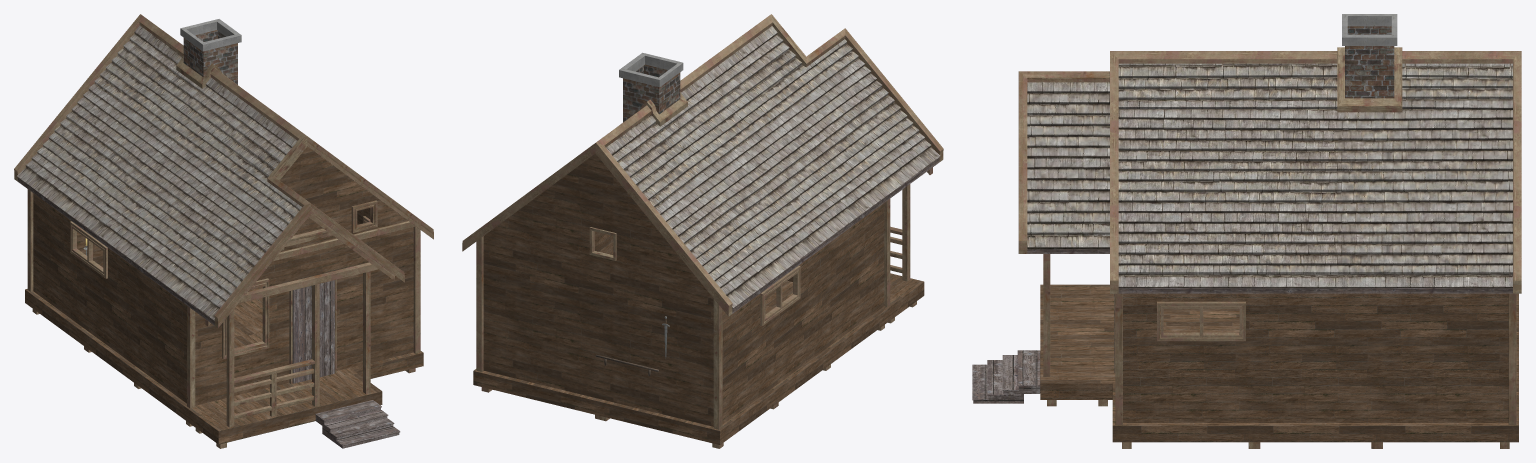
File: test_house_no_assets.glb
The picture shows the model from 3 angles, left to right: view 1: azimuth 30°, elevation 25°; view 2: azimuth 150°, elevation 25°; view 3: azimuth 270°, elevation 25°; orthographic projection. The views are drawn at different scales.
Visible parts, largest first — view 1: building_001.011, building_001.009, building_001.008, building_001.010, Cube.004, Cube.012, building_001.012, building_001.013, building_001.007, Cube.007, Cube.011, Cube.019 (+2 smaller); view 2: building_001.011, building_001.009, building_001.008, Cube.004, building_001.012, building_001.010, building_001.007, Cube.007, Cube.006; view 3: building_001.009, building_001.011, building_001.008, building_001.012, building_001.013, building_001.007, Cube.004, Cube.020, Cube.013, building_001.010.
Part boxes in pixels (x1,y1,x2,y2): building_001.011: (25,146,423,444); building_001.009: (17,25,302,320); building_001.008: (14,14,433,327); building_001.010: (205,214,394,427); Cube.004: (27,189,420,408); Cube.012: (292,280,334,383); building_001.012: (180,19,241,84); building_001.013: (315,400,400,448); building_001.007: (18,177,214,325); Cube.007: (71,226,104,274); Cube.011: (225,282,266,355); Cube.019: (289,279,336,383); building_001.011: (473,153,924,444); building_001.009: (606,26,940,308); building_001.008: (462,14,943,316); Cube.004: (476,199,890,429); building_001.012: (619,52,683,122); building_001.010: (890,167,932,281); building_001.007: (732,157,939,313); Cube.007: (764,270,798,321); Cube.006: (760,265,800,326); building_001.009: (1027,63,1512,287); building_001.011: (1040,284,1518,442); building_001.008: (1018,47,1521,293); building_001.012: (1342,14,1397,98); building_001.013: (972,350,1040,403); building_001.007: (1027,249,1512,293); Cube.004: (1115,293,1516,424); Cube.020: (1157,301,1245,341); Cube.013: (1161,306,1242,337); building_001.010: (1043,254,1050,376).
Bounding box in the file's own units: 2.04 × 2.23 × 3.08.
19 materials, 19 textured.
